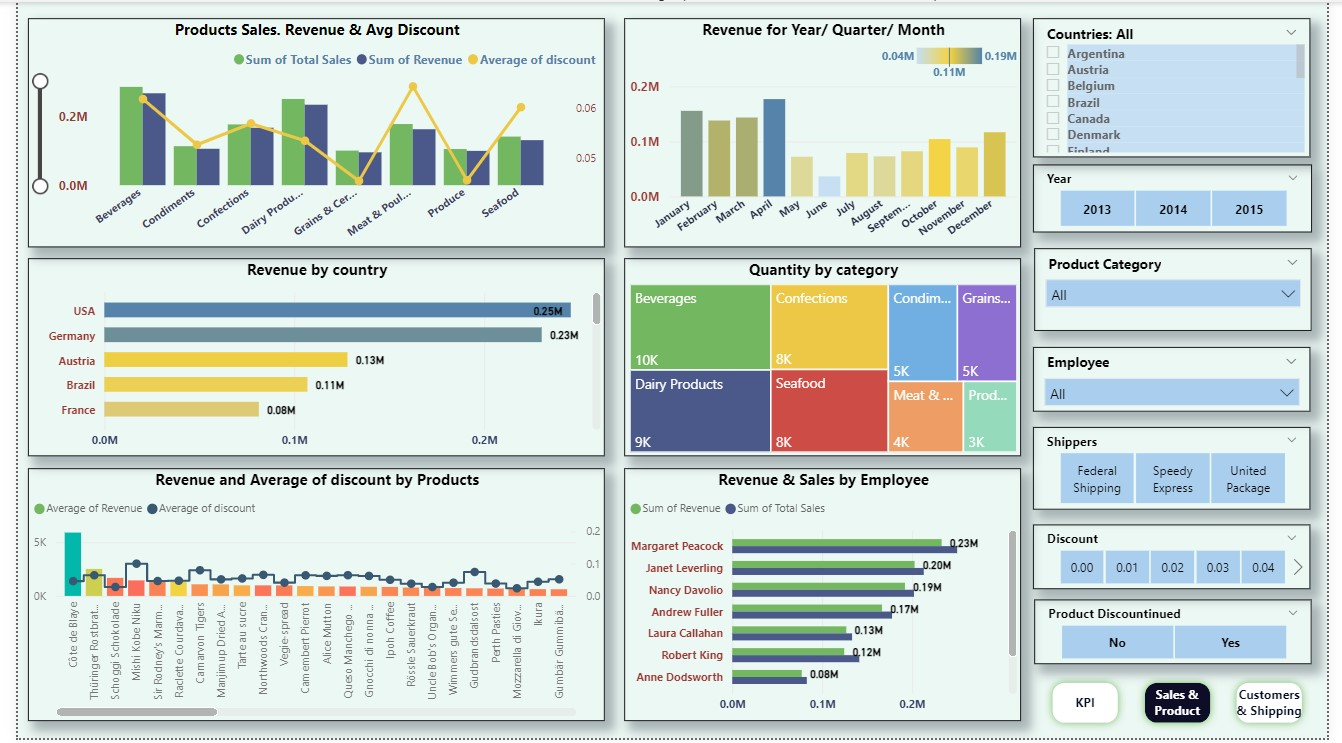

Layout of this report page (visuals, bound fields, positions):
{"tool":"powerbi","page":{"name":"Sales & Product","canvas":[1280,720],"ordinal":1},"visuals":[{"type":"lineClusteredColumnComboChart","title":"Products Sales. Revenue & Avg Discount","fields":{"Category":["categories.categoryName","orders.orderDate.Variation.Date Hierarchy.Year","orders.orderDate.Variation.Date Hierarchy.Quarter","orders.orderDate.Variation.Date Hierarchy.Month","orders.orderDate.Variation.Date Hierarchy.Day"],"Y":["order_details.Total Sales Value","order_details.Final Sales Value"],"Y2":["order_details.discount"]},"box":[9.6,16.5,564,223.7],"z":0},{"type":"barChart","title":"Revenue by country","fields":{"Category":["customers.country"],"Y":["order_details.Revenue"]},"box":[9.6,251.1,564,193.5],"z":1000},{"type":"clusteredBarChart","title":"Revenue & Sales by Employee","fields":{"Category":["employees.employeeName"],"Y":["order_details.Final Sales Value","order_details.Total Sales Value"]},"box":[592.8,455.6,388.3,247],"z":2000},{"type":"clusteredColumnChart","title":"Revenue for Year/ Quarter/ Month","fields":{"Category":["orders.orderDate.Variation.Date Hierarchy.Year","orders.orderDate.Variation.Date Hierarchy.Quarter","orders.orderDate.Variation.Date Hierarchy.Month","orders.orderDate.Variation.Date Hierarchy.Day"],"Y":["order_details.Revenue"]},"box":[592.8,16.5,388.3,223.7],"z":3000},{"type":"treemap","title":"Quantity by category","fields":{"Group":["categories.categoryName"],"Values":["order_details.quantity"]},"box":[592.8,251.1,388.3,193.5],"z":4000},{"type":"lineClusteredColumnComboChart","title":" Revenue and Average of discount by Products","fields":{"Category":["products.productName"],"Y":["order_details.Revenue"],"Y2":["order_details.discount"]},"box":[9.6,455.6,564,247],"z":5000},{"type":"slicer","fields":{"Values":["customers.country"]},"box":[992.6,15.9,271.4,135.7],"z":6000},{"type":"slicer","fields":{"Values":["orders.orderDate.Variation.Date Hierarchy.Year"]},"box":[992.6,158.9,272.6,66],"z":7000},{"type":"slicer","fields":{"Values":["categories.categoryName"]},"box":[993.8,240.8,271.4,80.7],"z":8000},{"type":"slicer","fields":{"Values":["employees.employeeName"]},"box":[992.6,337.4,271.4,63.6],"z":9000},{"type":"slicer","fields":{"Values":["shippers.companyName"]},"box":[992.6,415.6,271.4,80.7],"z":10000},{"type":"slicer","fields":{"Values":["order_details.discount"]},"box":[992.6,511,271.4,63.6],"z":11000},{"type":"slicer","fields":{"Values":["products.discontinued -Y/N"]},"box":[993.8,584.3,271.4,63.6],"z":12000},{"type":"pageNavigator","box":[1003.6,657.7,261.6,55],"z":13000}]}

Visuals, with their boxes in screenshot pixels (x1, y1, x2, y2), scaled from the page's 1280x720 canvas onto the 1342x743 screenshot:
"Products Sales. Revenue & Avg Discount" lineClusteredColumnComboChart: left=10, top=17, right=601, bottom=248
"Revenue by country" barChart: left=10, top=259, right=601, bottom=459
"Revenue & Sales by Employee" clusteredBarChart: left=622, top=470, right=1029, bottom=725
"Revenue for Year/ Quarter/ Month" clusteredColumnChart: left=622, top=17, right=1029, bottom=248
"Quantity by category" treemap: left=622, top=259, right=1029, bottom=459
" Revenue and Average of discount by Products" lineClusteredColumnComboChart: left=10, top=470, right=601, bottom=725
slicer - customers.country: left=1041, top=16, right=1325, bottom=156
slicer - orders.orderDate.Variation.Date Hierarchy.Year: left=1041, top=164, right=1326, bottom=232
slicer - categories.categoryName: left=1042, top=248, right=1326, bottom=332
slicer - employees.employeeName: left=1041, top=348, right=1325, bottom=414
slicer - shippers.companyName: left=1041, top=429, right=1325, bottom=512
slicer - order_details.discount: left=1041, top=527, right=1325, bottom=593
slicer - products.discontinued -Y/N: left=1042, top=603, right=1326, bottom=669
pageNavigator: left=1052, top=679, right=1326, bottom=735
